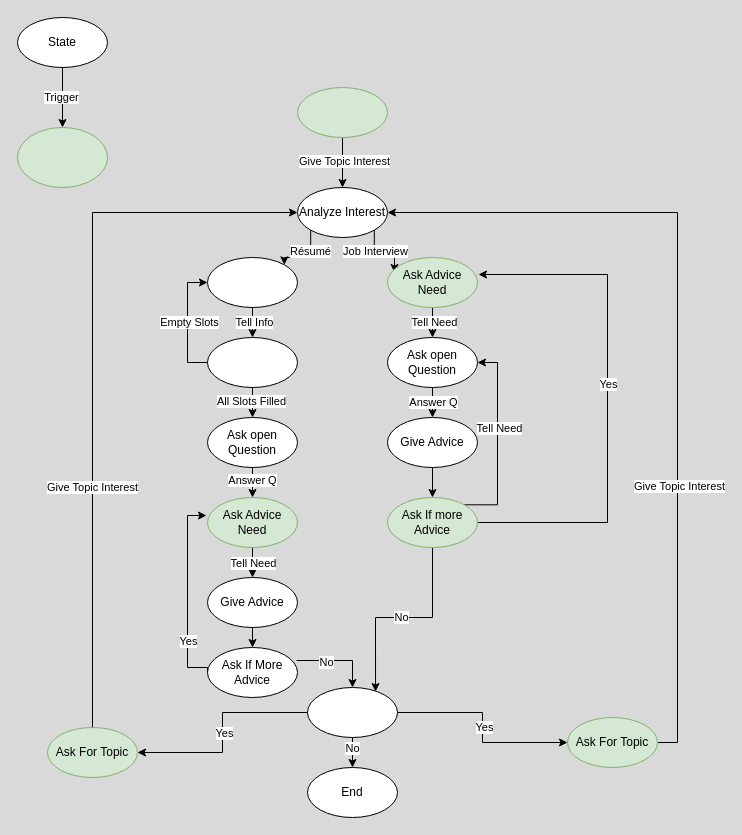
The diagram is 742 pixels wide and 835 high, and some of its shapes have lost their labels. Here are the shapes that lost their labels. From the top down, the centre of each, then its label:
point (342, 112): Greeting
point (62, 157): Request options possible
point (252, 282): Ask for Info
point (252, 362): Analyze Profile
point (352, 712): Ask If Topic Change
